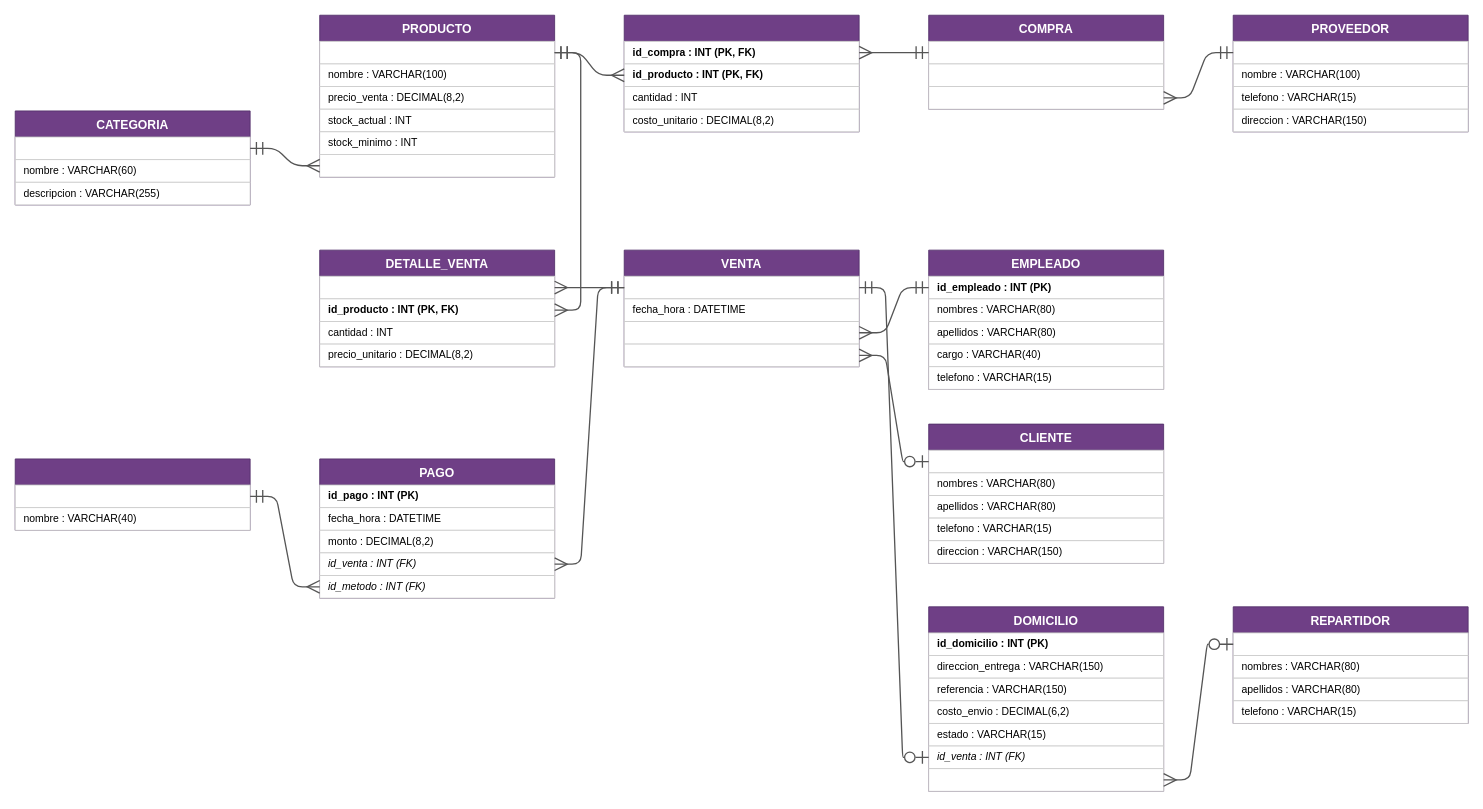
Image size: 1483x809. Some labels were removed from this diagram. The shapes that lost their labels are listed below. From the top down, each one's box as (x1, y1, x2, y2) in pixels, then its label:
(319, 40, 555, 64): id_producto : INT (PK)
(928, 40, 1164, 64): id_compra : INT (PK)
(1232, 40, 1468, 64): id_proveedor : INT (PK)
(623, 14, 859, 132): DETALLE_COMPRA
(928, 63, 1164, 87): fecha : DATE
(928, 86, 1164, 109): id_proveedor : INT (FK)
(14, 136, 250, 160): id_categoria : INT (PK)
(319, 154, 555, 177): id_categoria : INT (FK)
(319, 275, 555, 299): id_venta : INT (PK, FK)
(623, 275, 859, 299): id_venta : INT (PK)
(623, 321, 859, 344): id_empleado : INT (FK)
(623, 343, 859, 367): id_cliente : INT (FK)
(928, 449, 1164, 473): id_cliente : INT (PK)
(14, 458, 250, 530): METODO_PAGO
(14, 484, 250, 508): id_metodo : INT (PK)
(1232, 632, 1468, 656): id_repartidor : INT (PK)
(928, 768, 1164, 791): id_repartidor : INT (FK)
